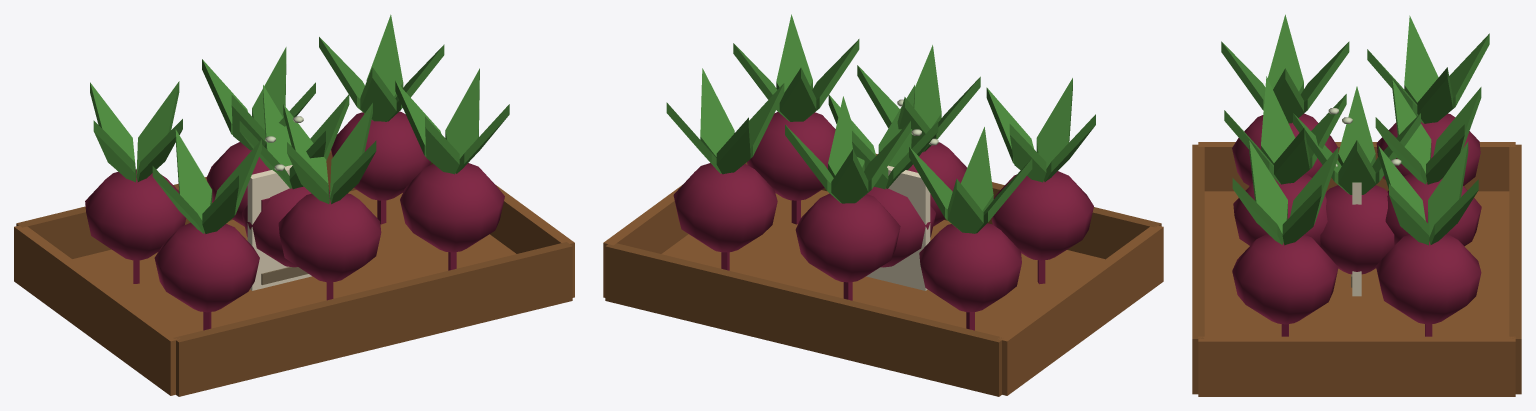
File: Veg_Beet.fbx
The picture shows the model from 3 angles, left to right: view 1: azimuth 30°, elevation 25°; view 2: azimuth 150°, elevation 25°; view 3: azimuth 270°, elevation 25°; orthographic projection.
Parts seen in each view (by area): view 1: Veg_Beet__Stack, Veg_Beet, Veg_Beet__Seed; view 2: Veg_Beet__Stack, Veg_Beet, Veg_Beet__Seed; view 3: Veg_Beet__Stack, Veg_Beet, Veg_Beet__Seed.
Part boxes in pixels (x1=…): Veg_Beet__Stack: x1=14, y1=14, x2=574, y2=396; Veg_Beet: x1=239, y1=85, x2=349, y2=267; Veg_Beet__Seed: x1=247, y1=165, x2=311, y2=290; Veg_Beet__Stack: x1=603, y1=14, x2=1163, y2=396; Veg_Beet: x1=828, y1=85, x2=938, y2=267; Veg_Beet__Seed: x1=866, y1=165, x2=930, y2=290; Veg_Beet__Stack: x1=1192, y1=14, x2=1521, y2=396; Veg_Beet: x1=1293, y1=86, x2=1420, y2=274; Veg_Beet__Seed: x1=1351, y1=182, x2=1361, y2=296.
Size of the model in its own units: 0.31 by 0.1415 by 0.216.
